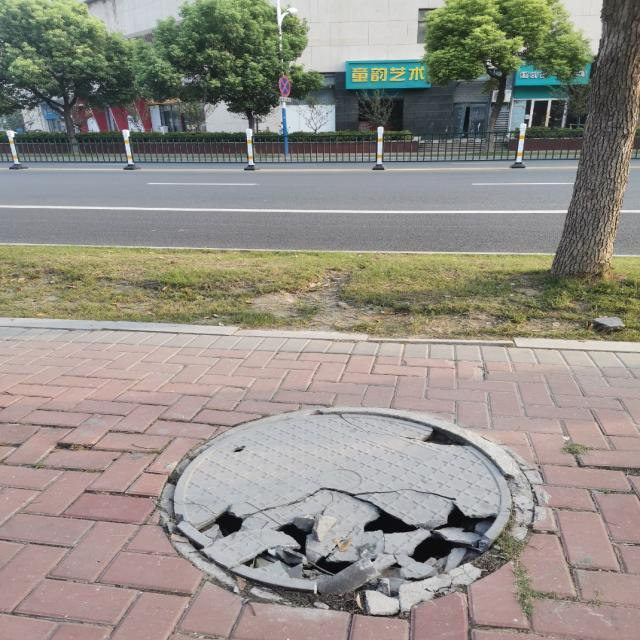manhole: (166, 409, 524, 614)
